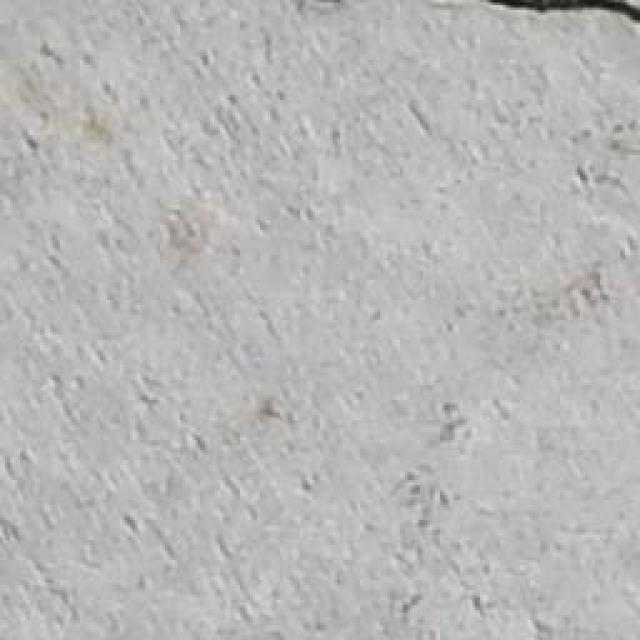concrete-crack: (491, 0, 640, 23)
